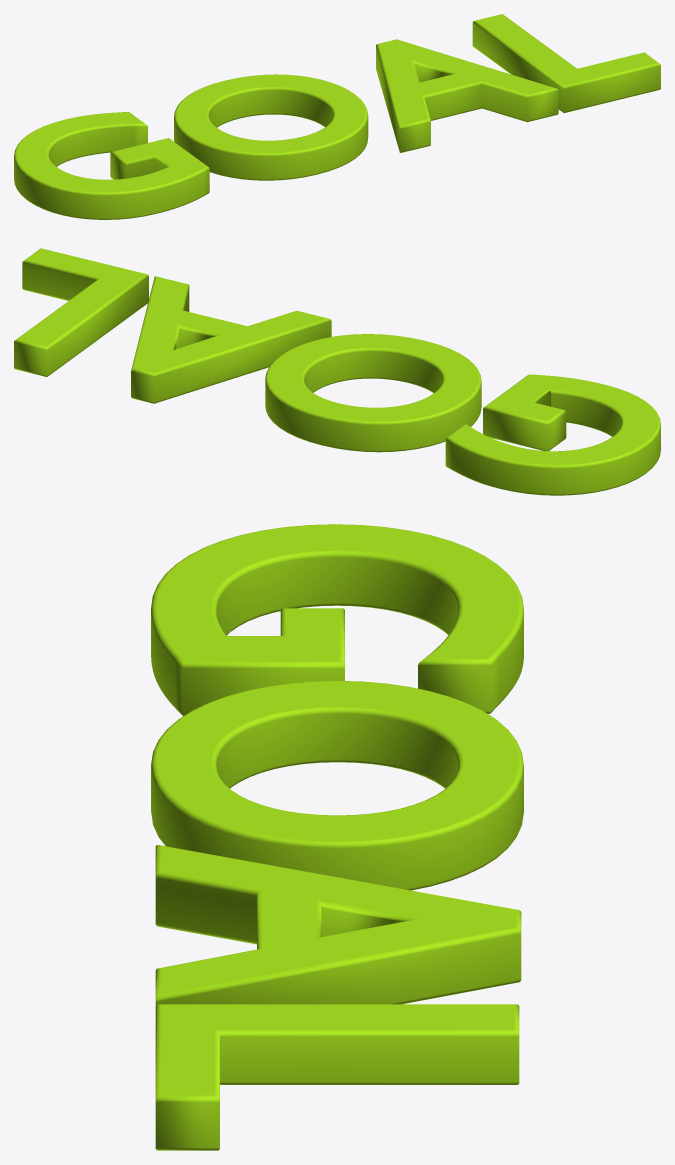
Rendered from goal.fbx.
The picture shows the model from 3 angles, top to bottom: view 1: azimuth 30°, elevation 25°; view 2: azimuth 150°, elevation 25°; view 3: azimuth 270°, elevation 25°; orthographic projection. The views are drawn at different scales.
Parts seen in each view (by area): view 1: Text; view 2: Text; view 3: Text.
Part boxes in pixels (<box>): Text: <box>14,14,660,219</box>; Text: <box>14,248,660,495</box>; Text: <box>151,524,523,1150</box>.
Bounding box in the file's own units: 270 × 12 × 74.01.
